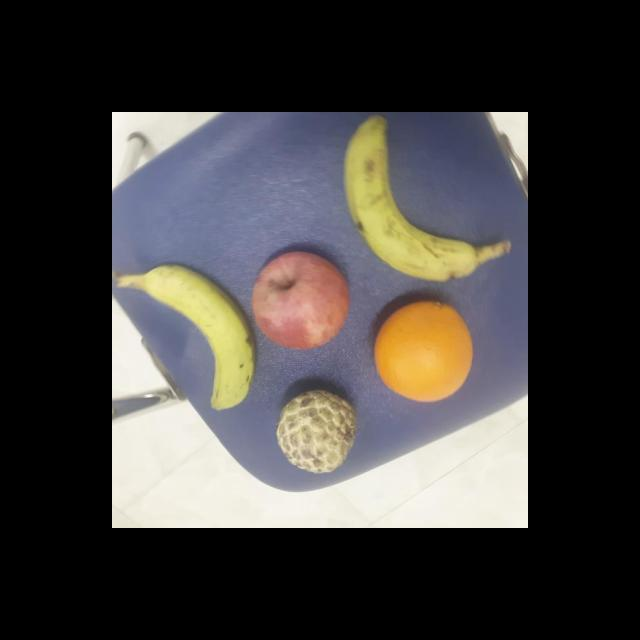Sakya fruit: (276, 386, 361, 474)
apple: (250, 250, 350, 352)
banana: (342, 116, 484, 284), (146, 260, 259, 414)
orange: (371, 300, 478, 404)
